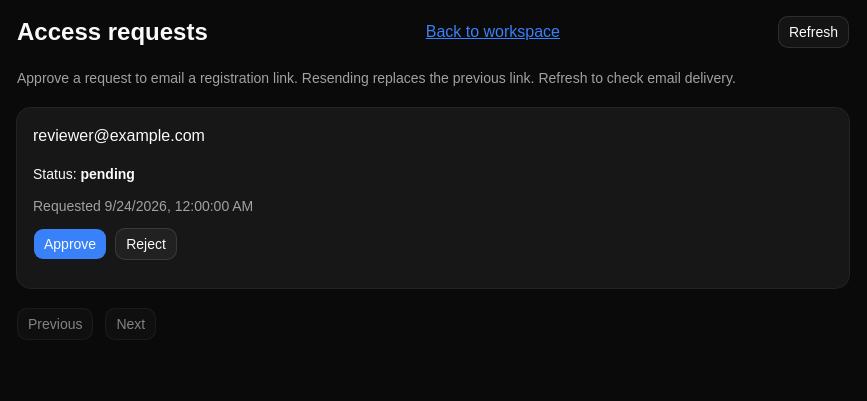
admin requests › allows rejecting a request and surfaces API failures
Step 1. Click the button "Reject" → [146, 244], box x1=115 y1=228 x2=177 y2=260
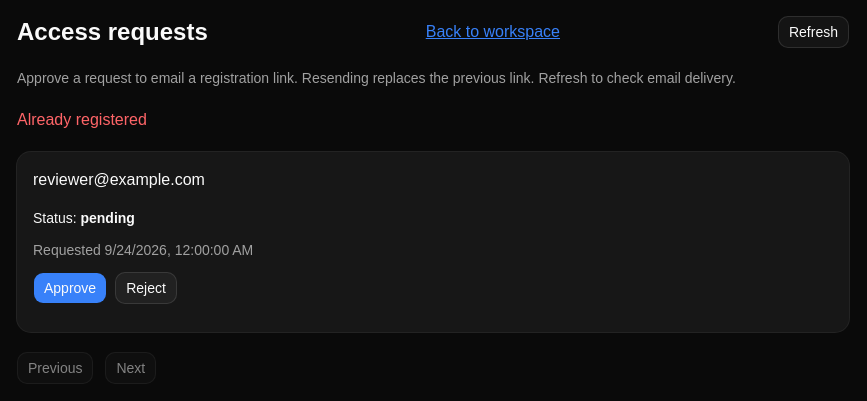
Result: the message reads "Already registered" at x1=17 y1=111 x2=147 y2=128
